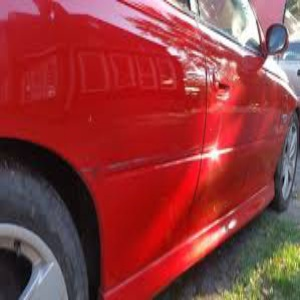bumper: (91, 178, 240, 261)
